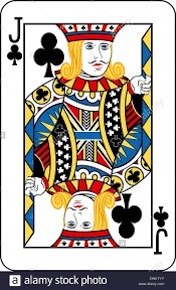JackOfClubs: (1, 1, 176, 271)
